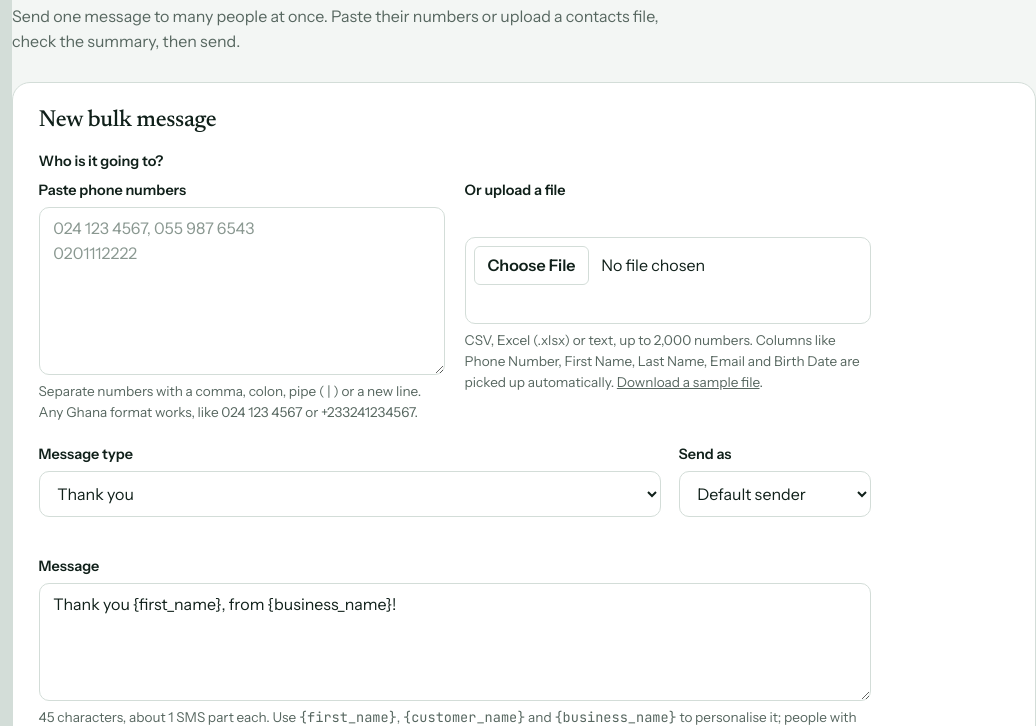
Test: BulkSend › blocks sending, and points to Buy SMS, when the wallet can't cover it
Click the text box labelled "Paste phone numbers" at coordinates (242, 291), box top-left (39, 207), bottom-right (445, 375)
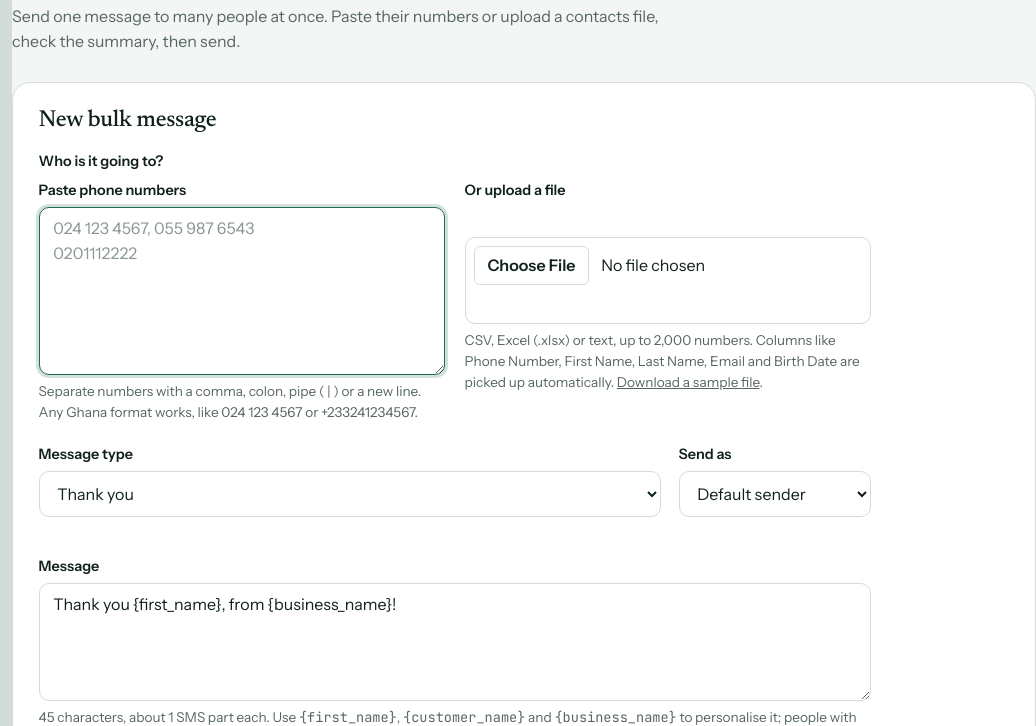
Type keys "0241234567, 0551234567"
(page scrolled)
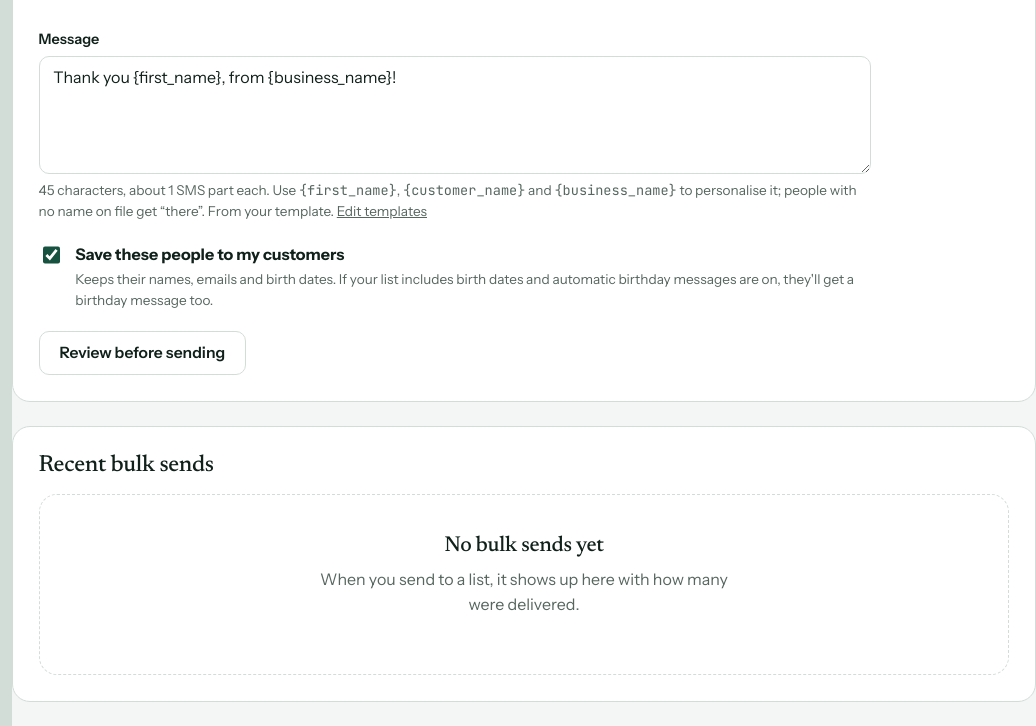
Click the button "Review before sending" at coordinates (142, 353), box top-left (39, 331), bottom-right (246, 375)
(page scrolled)
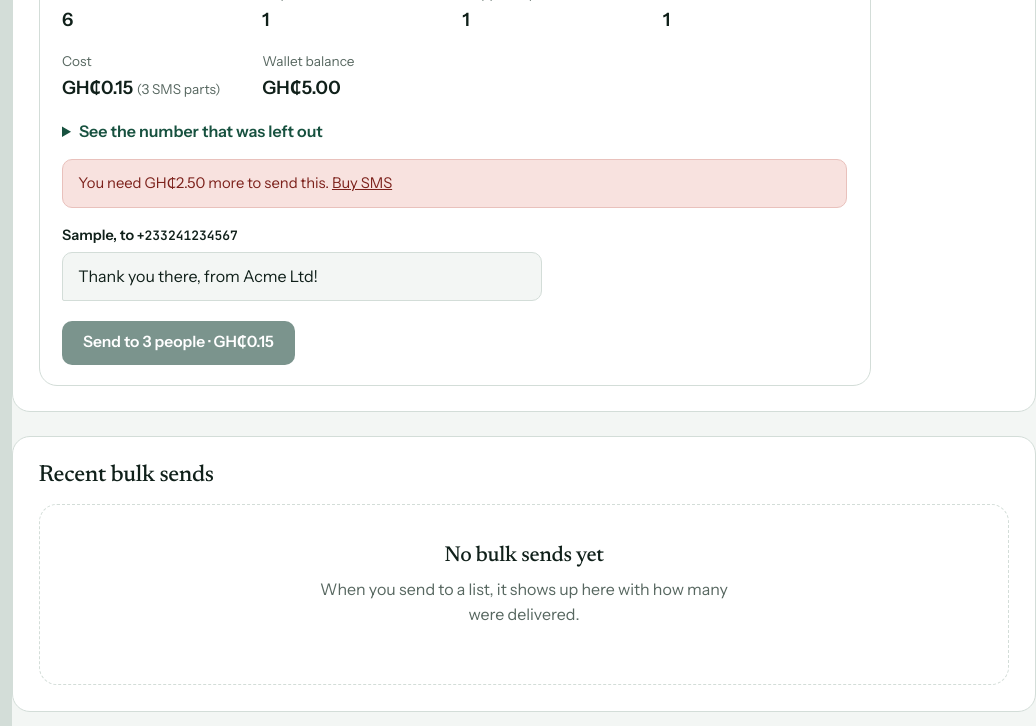
Check: the text "You need GH₵2.50 more to send this. Buy SMS" is shown, box top-left (62, 159), bottom-right (847, 208)
Check: the button "Send to 3 people · GH₵0.15" is disabled, box top-left (62, 321), bottom-right (295, 365)
